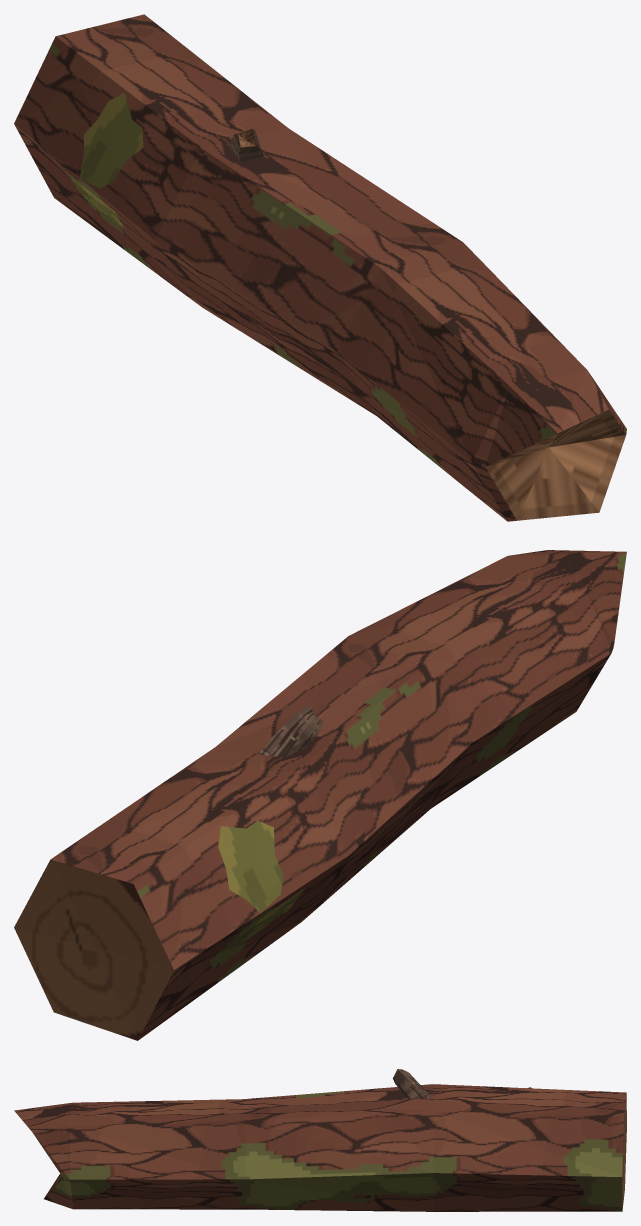
File: SM_DW01_LogWhole.fbx
3 renders of one model, top to bottom at view 1: azimuth 30°, elevation 25°; view 2: azimuth 150°, elevation 25°; view 3: azimuth 270°, elevation 25°, orthographic. The views are drawn at different scales.
Parts seen in each view (by area): view 1: DW01_Bark, DW01_Wood, DW01_Moss; view 2: DW01_Bark, DW01_Wood, DW01_Moss; view 3: DW01_Bark, DW01_Wood.
Part boxes in pixels (x1,y1,x2,y2): DW01_Bark: (14, 14, 626, 521); DW01_Wood: (229, 128, 625, 520); DW01_Moss: (65, 93, 143, 229); DW01_Bark: (51, 550, 626, 1040); DW01_Wood: (14, 705, 323, 1040); DW01_Moss: (218, 821, 304, 945); DW01_Bark: (14, 1084, 626, 1211); DW01_Wood: (44, 1069, 626, 1208).
Size of the model in its own units: 0.8671 by 0.8716 by 3.91.
